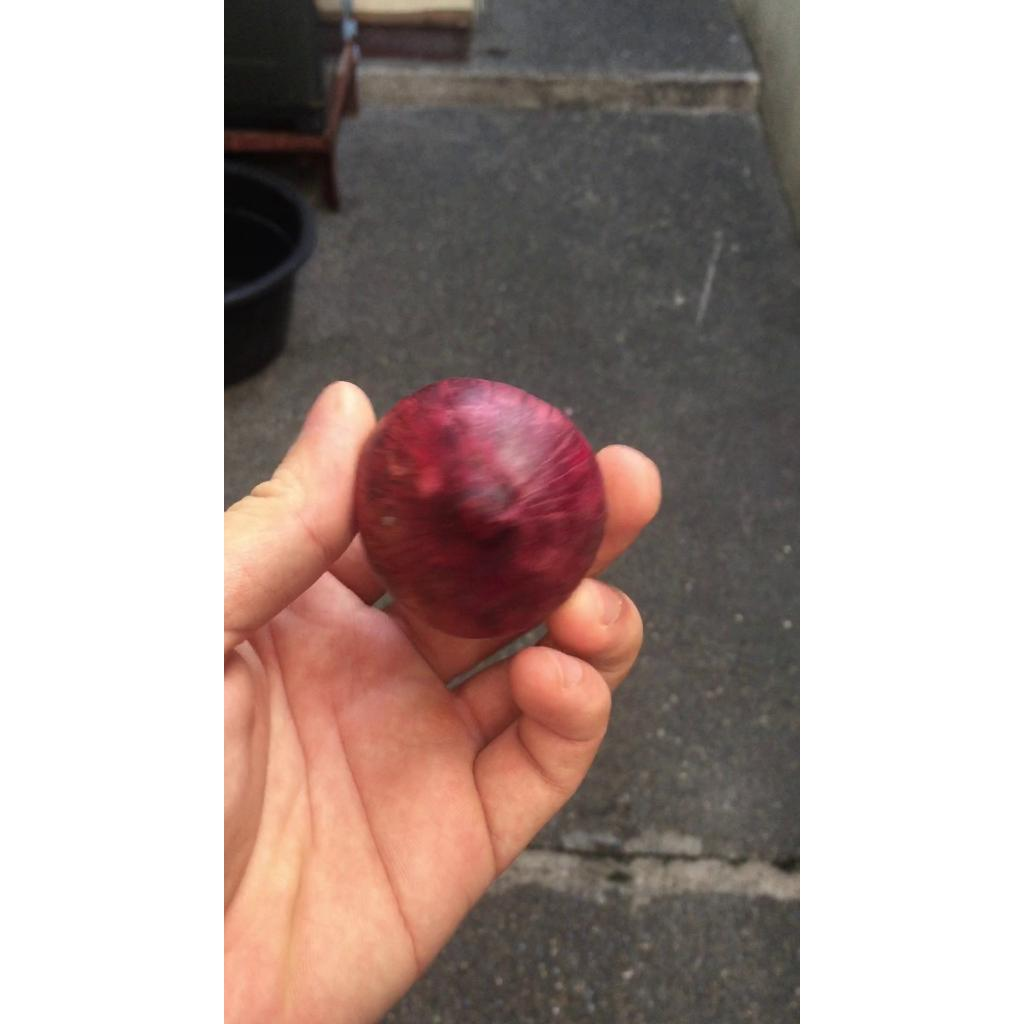Onion: (354, 378, 605, 639)
